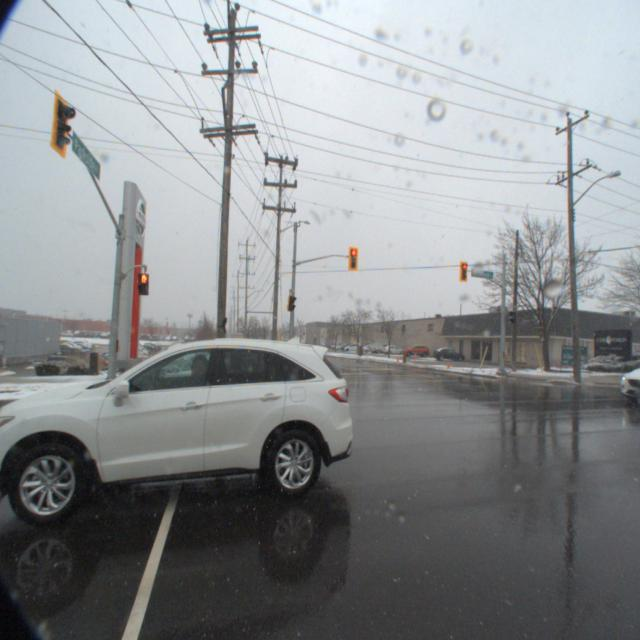Car: (429, 346, 465, 361), (398, 343, 429, 358)
